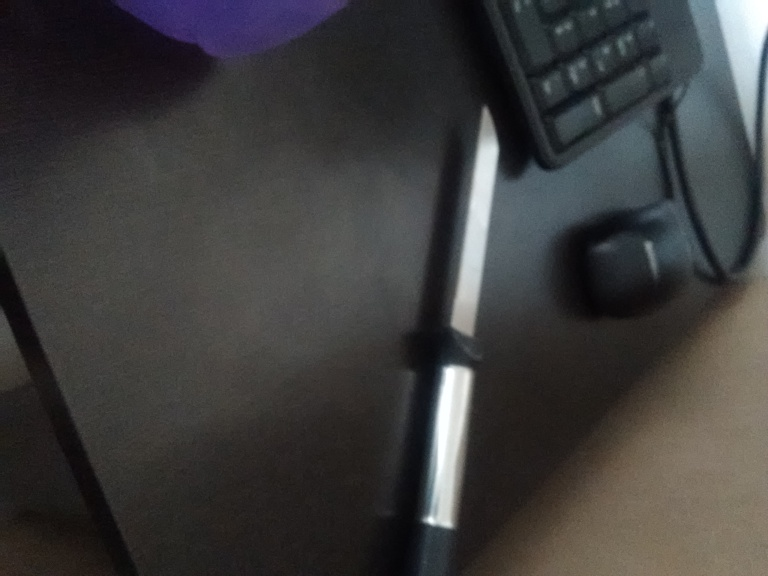knife: (410, 100, 502, 576)
